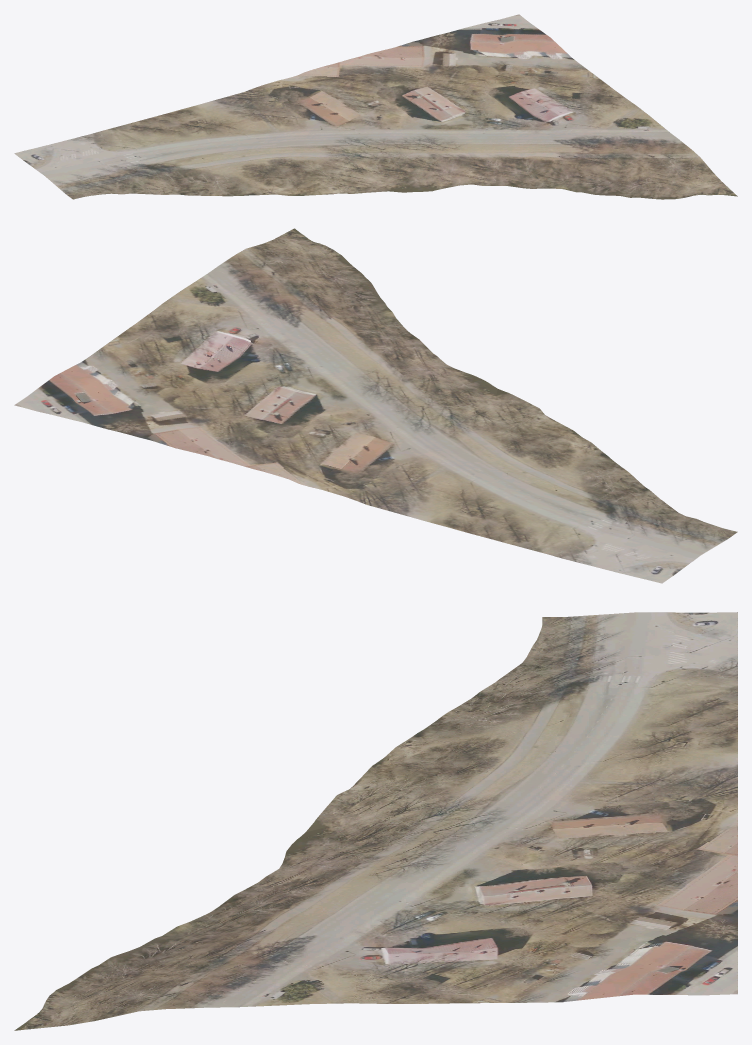
File: CM_Terrain_24489025_6819999.fbx
3 views of the same model, one above another, from view 1: azimuth 30°, elevation 25°; view 2: azimuth 150°, elevation 25°; view 3: azimuth 270°, elevation 25° (orthographic). The views are drawn at different scales.
Parts seen in each view (by area): view 1: CM_Terrain_24489025_6819999_LOD0; view 2: CM_Terrain_24489025_6819999_LOD0; view 3: CM_Terrain_24489025_6819999_LOD0.
Part boxes in pixels (bbox=[...]): CM_Terrain_24489025_6819999_LOD0: bbox=[14, 14, 737, 199]; CM_Terrain_24489025_6819999_LOD0: bbox=[14, 228, 737, 583]; CM_Terrain_24489025_6819999_LOD0: bbox=[14, 612, 737, 1030].
Size of what is drawn, in the model's own units: 205 by 8.79 by 154.
